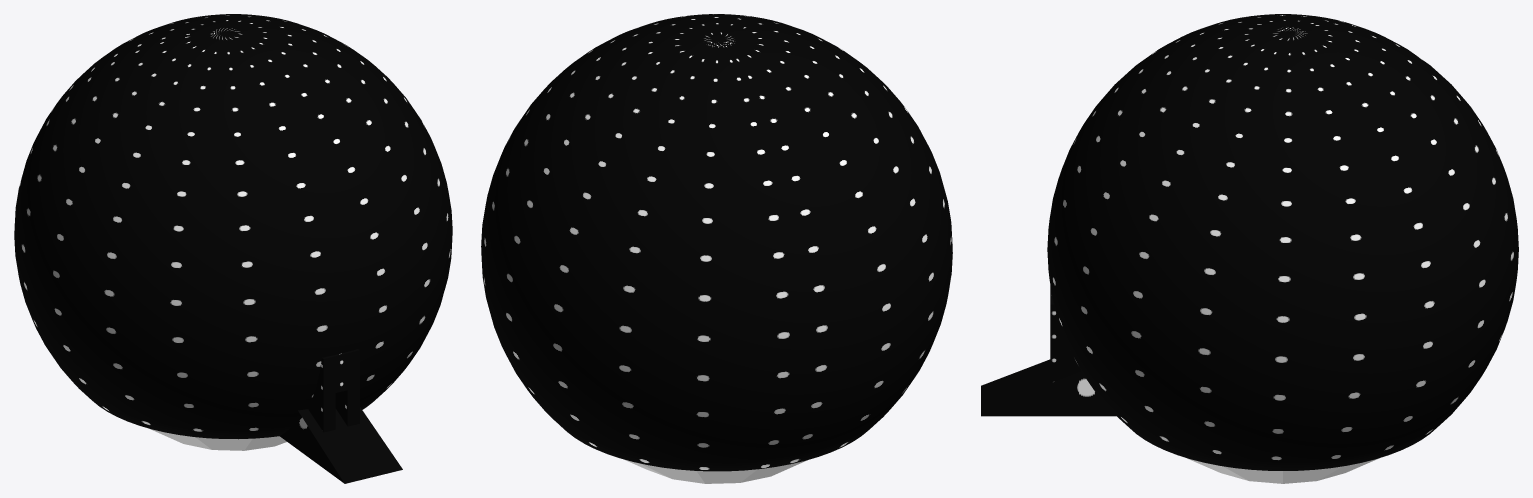
Rendered from DarkGeod.fbx.
The picture shows the model from 3 angles, left to right: view 1: azimuth 30°, elevation 25°; view 2: azimuth 150°, elevation 25°; view 3: azimuth 270°, elevation 25°; orthographic projection. The views are drawn at different scales.
Parts seen in each view (by area): view 1: DarkGeod, DarkGeodRamp, DarkGeodDoorFrame, DarkGeodVolume; view 2: DarkGeod, DarkGeodVolume; view 3: DarkGeod, DarkGeodRamp, DarkGeodVolume, DarkGeodDoorFrame.
Part boxes in pixels (x1=…): DarkGeod: x1=14, y1=14, x2=452, y2=439; DarkGeodRamp: x1=280, y1=407, x2=402, y2=483; DarkGeodDoorFrame: x1=308, y1=349, x2=359, y2=432; DarkGeodVolume: x1=149, y1=428, x2=286, y2=450; DarkGeod: x1=481, y1=14, x2=952, y2=471; DarkGeodVolume: x1=624, y1=459, x2=807, y2=483; DarkGeod: x1=1047, y1=14, x2=1518, y2=470; DarkGeodRamp: x1=981, y1=359, x2=1115, y2=416; DarkGeodVolume: x1=1185, y1=457, x2=1379, y2=483; DarkGeodDoorFrame: x1=1050, y1=286, x2=1081, y2=383.
Bounding box in the file's own units: 80 × 91.25 × 79.86.
